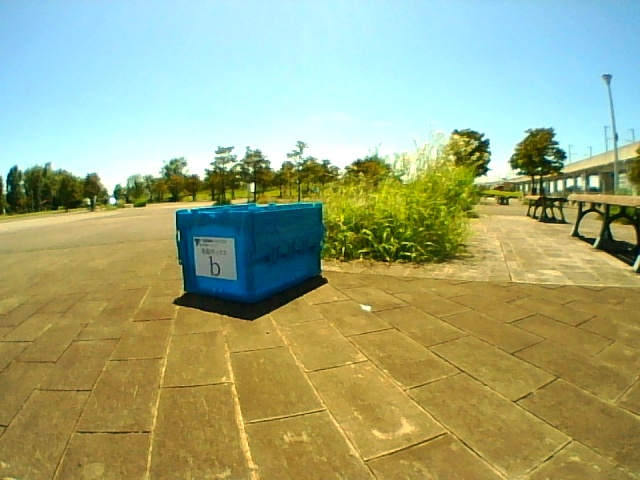blue_box: (176, 203, 323, 301)
tag_b: (196, 239, 235, 278)
